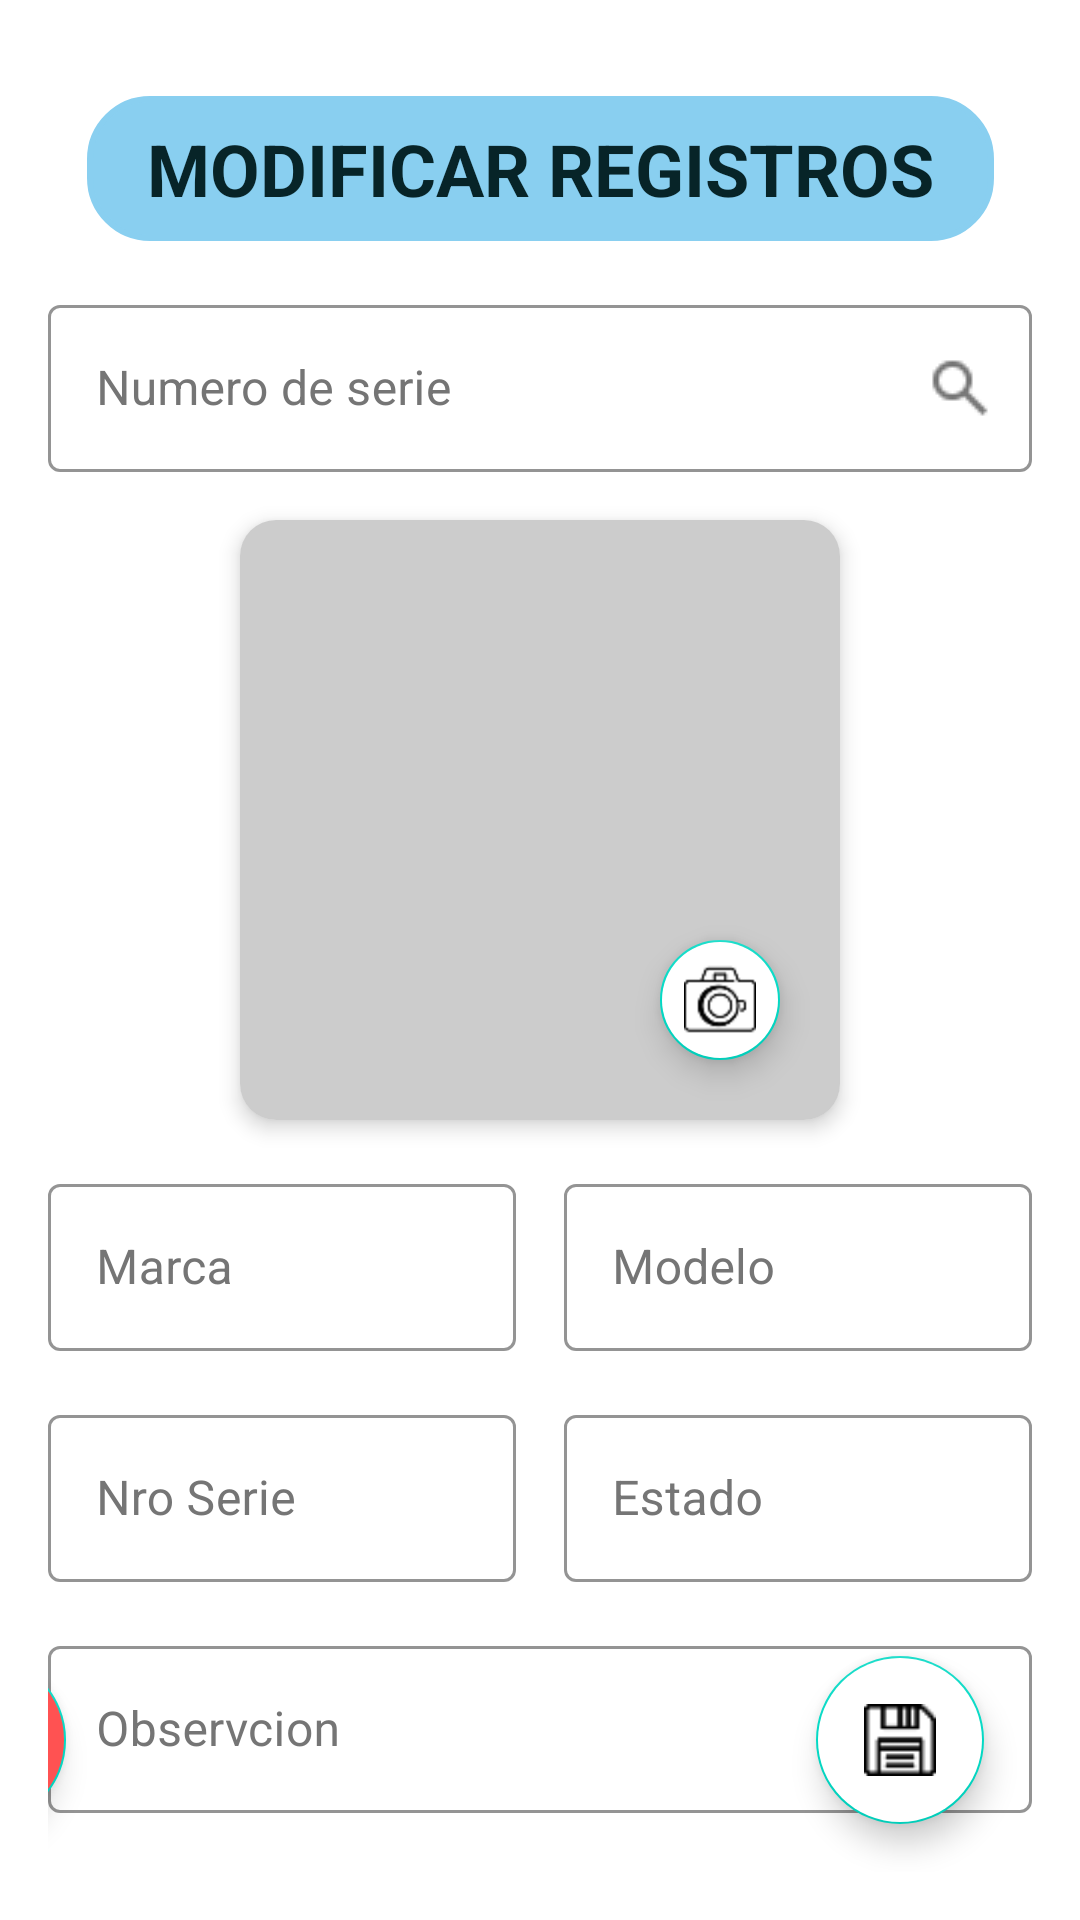

Icon click points for this 1080px×1920px phone screenshot, format [x,y]:
camara: [720,1002]
guardar: [900,1740]
